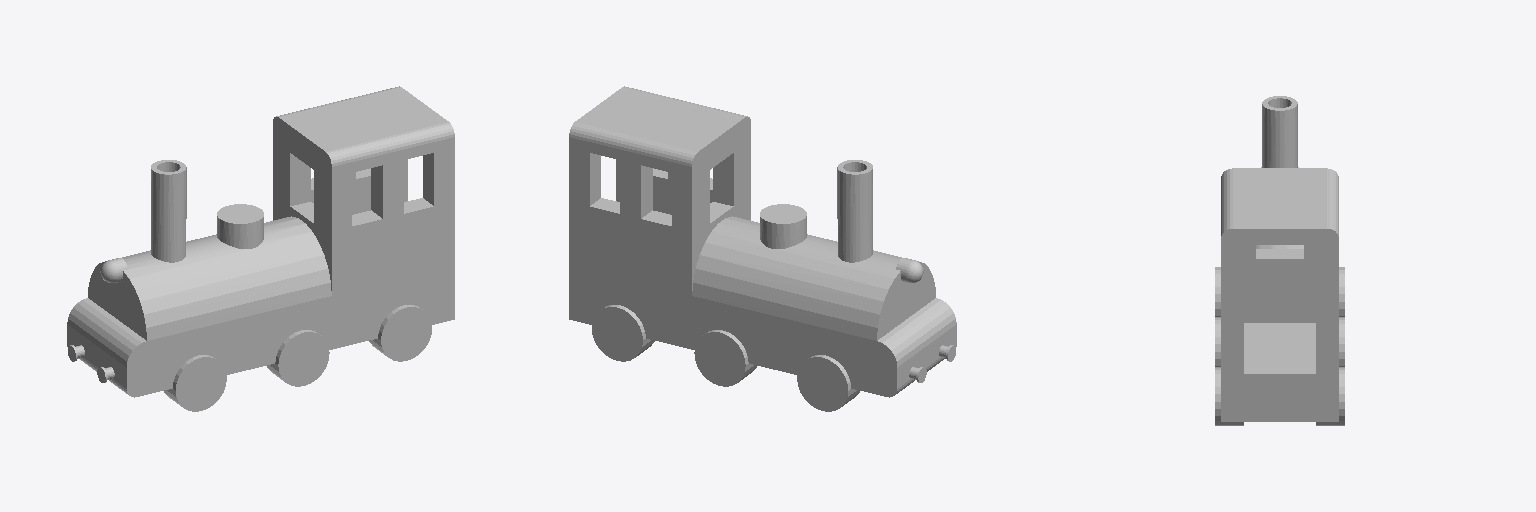
File: trainHead v1.obj
3 views of the same model, side by side, from view 1: azimuth 30°, elevation 25°; view 2: azimuth 150°, elevation 25°; view 3: azimuth 270°, elevation 25° (orthographic).
Parts seen in each view (by area): view 1: Body1; view 2: Body1; view 3: Body1.
Boxes of the visible parts, x1=… form: Body1: x1=67, y1=86, x2=454, y2=411; Body1: x1=569, y1=86, x2=956, y2=411; Body1: x1=1215, y1=96, x2=1344, y2=425.
Bounding box in the file's own units: 33 × 20.5 × 11.